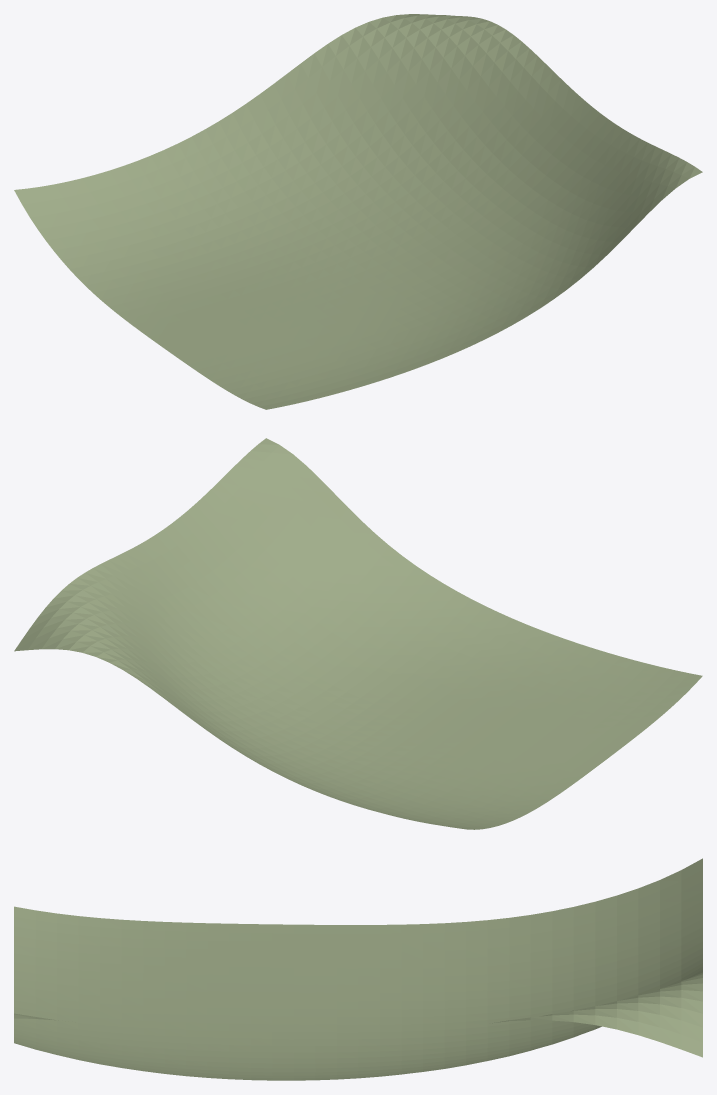
Rendered from lunar-1-4.glb.
3 renders of one model, top to bottom at view 1: azimuth 30°, elevation 25°; view 2: azimuth 150°, elevation 25°; view 3: azimuth 270°, elevation 25°, orthographic. The views are drawn at different scales.
Visible parts, largest first — view 1: lunar-1-4; view 2: lunar-1-4; view 3: lunar-1-4.
Boxes of the visible parts, x1,y1,x2,y2 form: lunar-1-4: (14, 14, 702, 409); lunar-1-4: (14, 438, 702, 829); lunar-1-4: (14, 858, 702, 1080).
Size of the model in its own units: 128 by 40.52 by 128.
